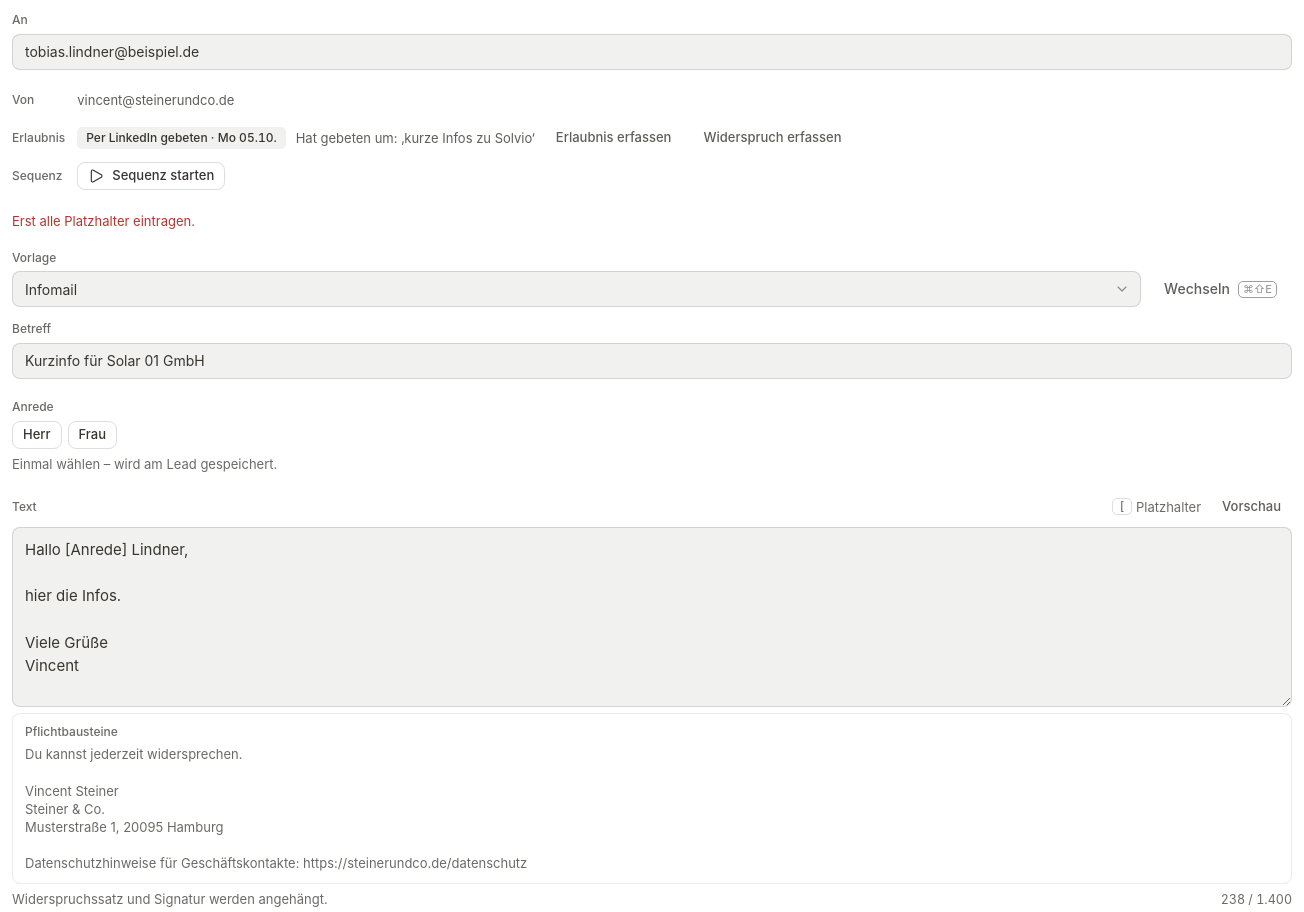
Test: Composer › [Anrede] bei neutral: Herr/Frau einmal wählen
This screenshot has width=1304, height=912.
Expected: the text with test id "von" reads "vincent@steinerundco.de", [77, 92, 234, 108]
Click the button "Frau": [92, 435] box [68, 421, 117, 449]
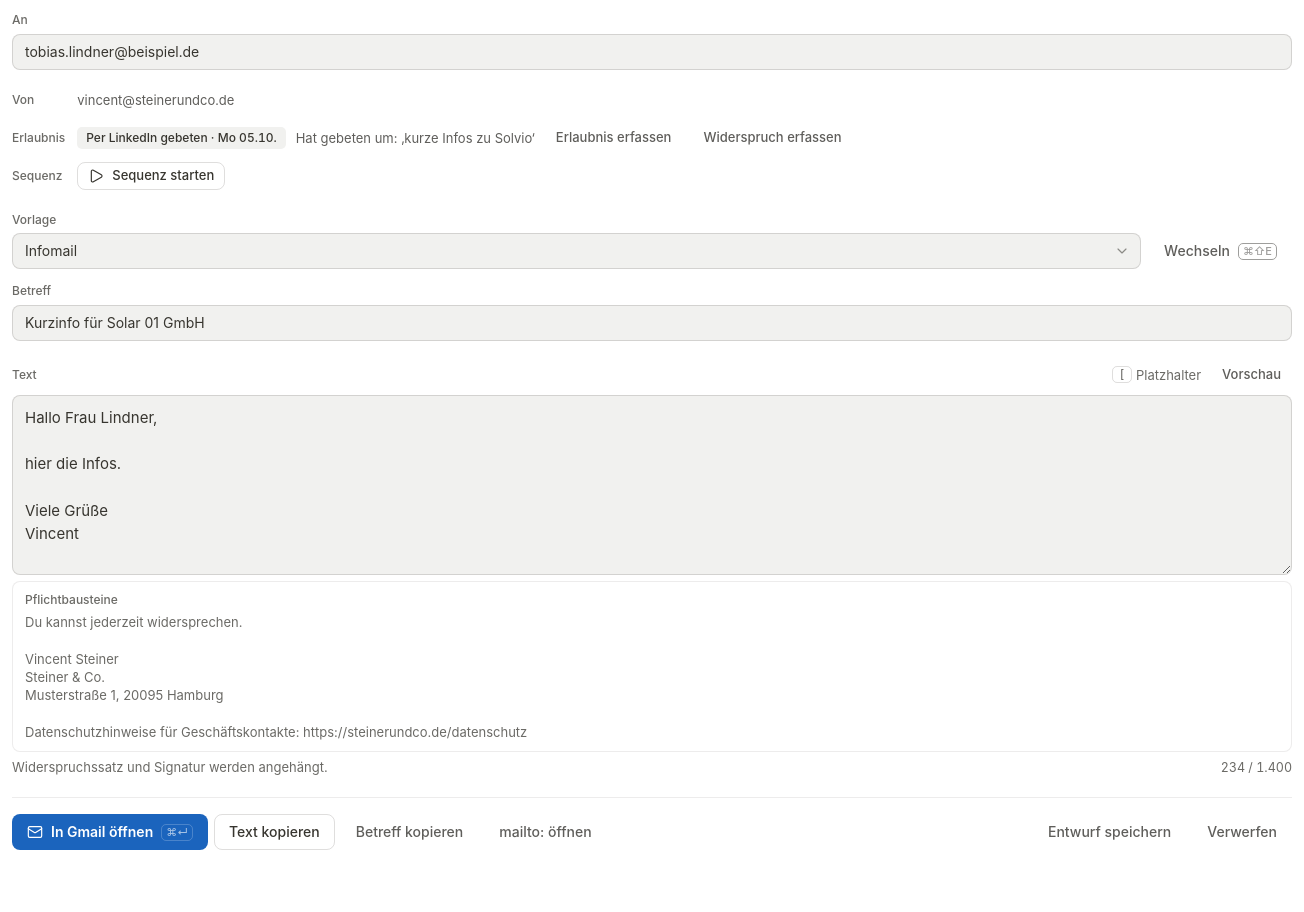
Now the button "In Gmail öffnen ⌘↵" is enabled, box [12, 814, 208, 850]
